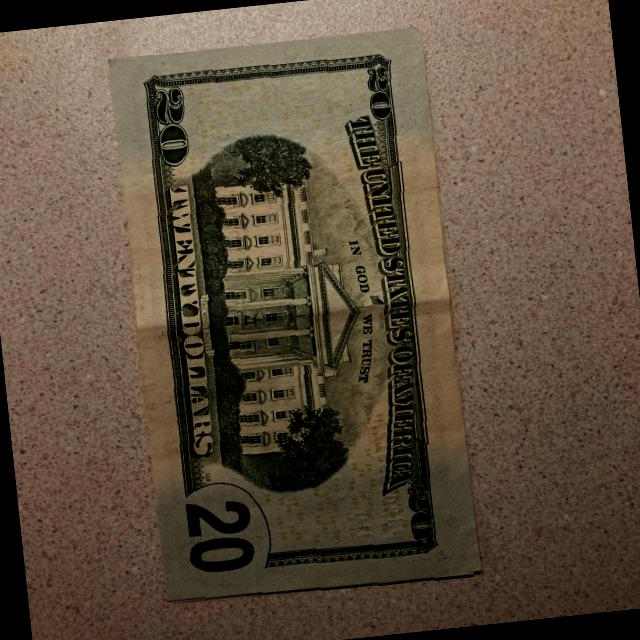twenty: (106, 27, 482, 608)
